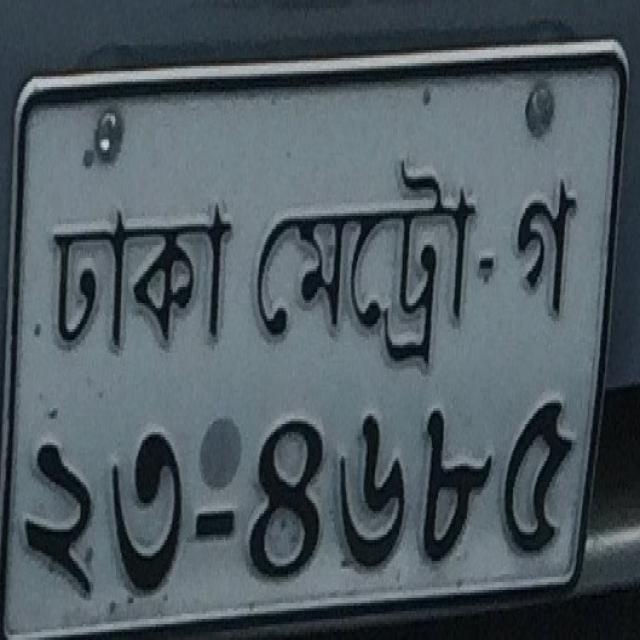numberplate: (1, 36, 629, 636)
